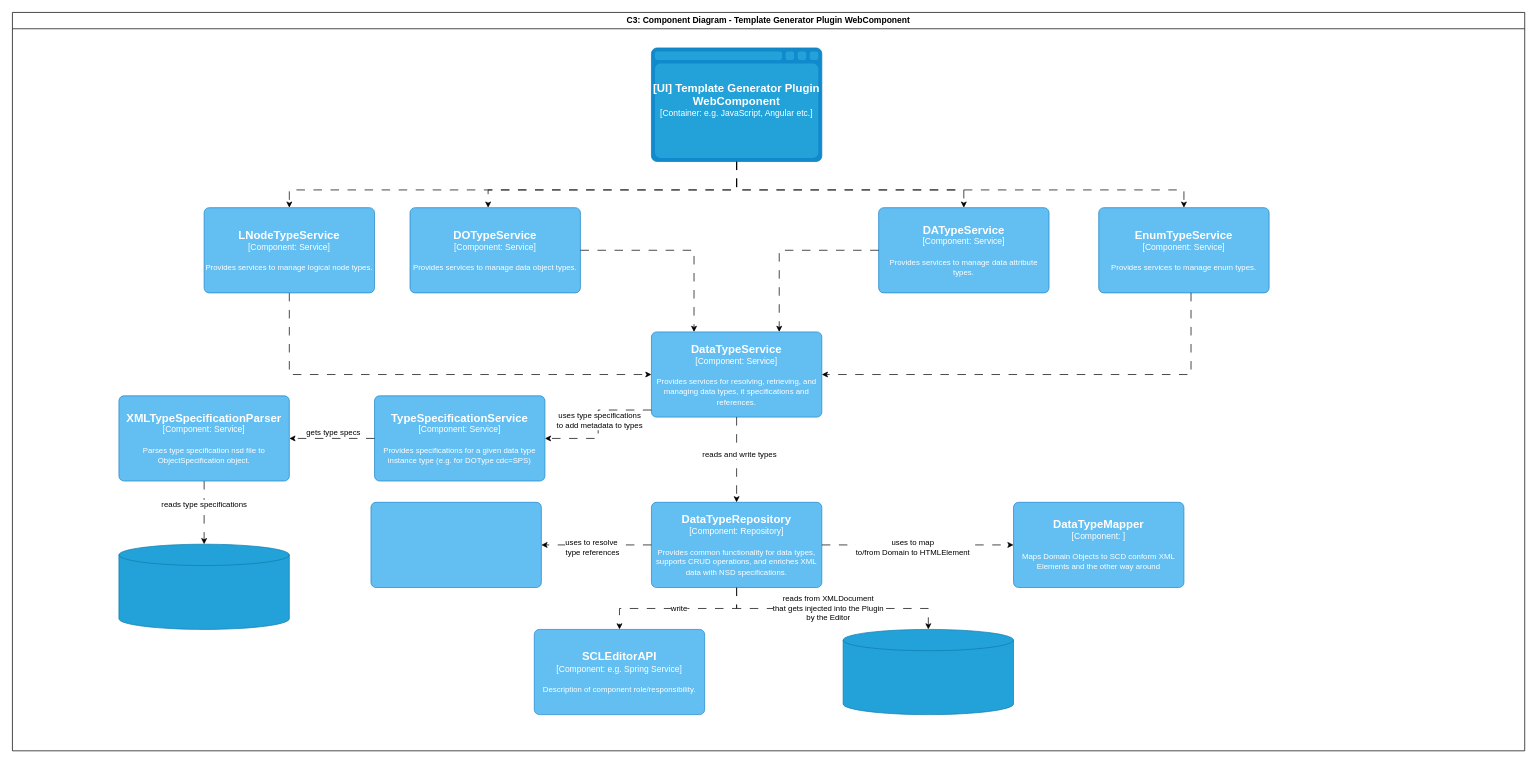
Image size: 1537x763. Some labels were removed from this diagram. Here are the shapes that lost their labels. From the top down, the box of each, then its label:
(370, 502, 541, 588): TypeTraverser [Component: Service] Traverses over type references
(118, 544, 289, 629): Data Type Specifications [Container: XML File]
(842, 629, 1014, 715): SCL Document [Container: Javascript XMLDocument]
